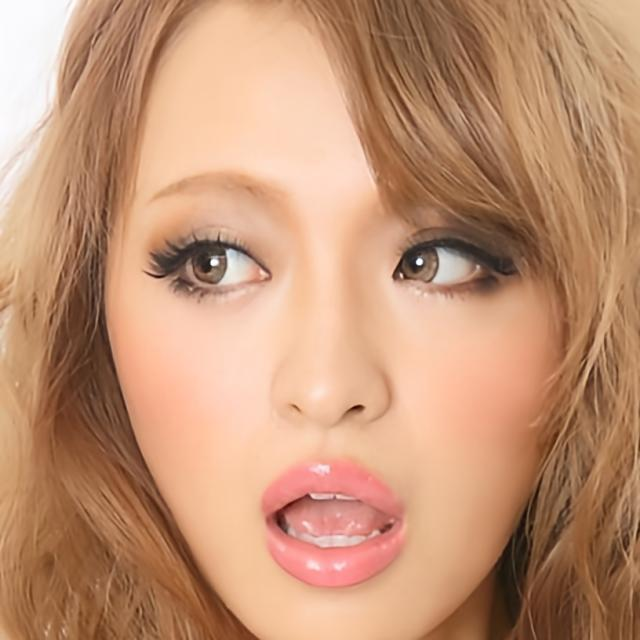surprise: (105, 0, 562, 640)
